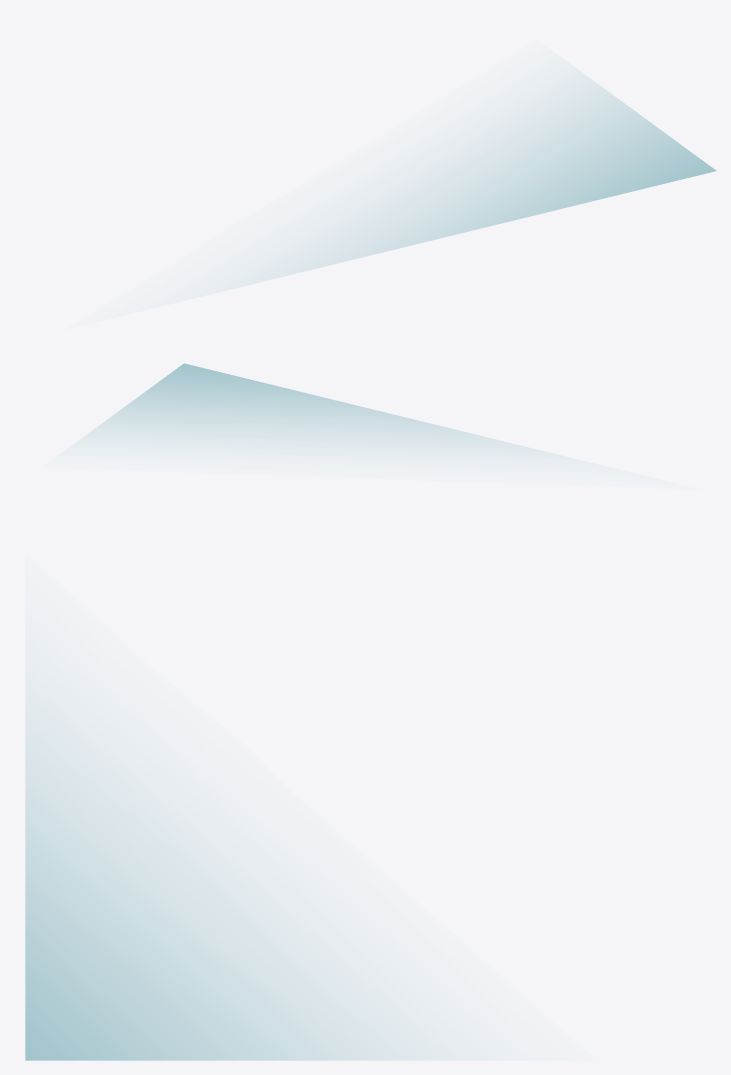
3 renders of one model, top to bottom at view 1: azimuth 30°, elevation 25°; view 2: azimuth 150°, elevation 25°; view 3: azimuth 270°, elevation 25°, orthographic. The views are drawn at different scales.
Visible parts, largest first — view 1: city; view 2: city; view 3: city.
Part boxes in pixels (<box>): city: <box>252,76,716,283</box>; city: <box>82,363,551,453</box>; city: <box>25,699,437,1060</box>.
Bounding box in the file's own units: 500 × 0 × 276.
